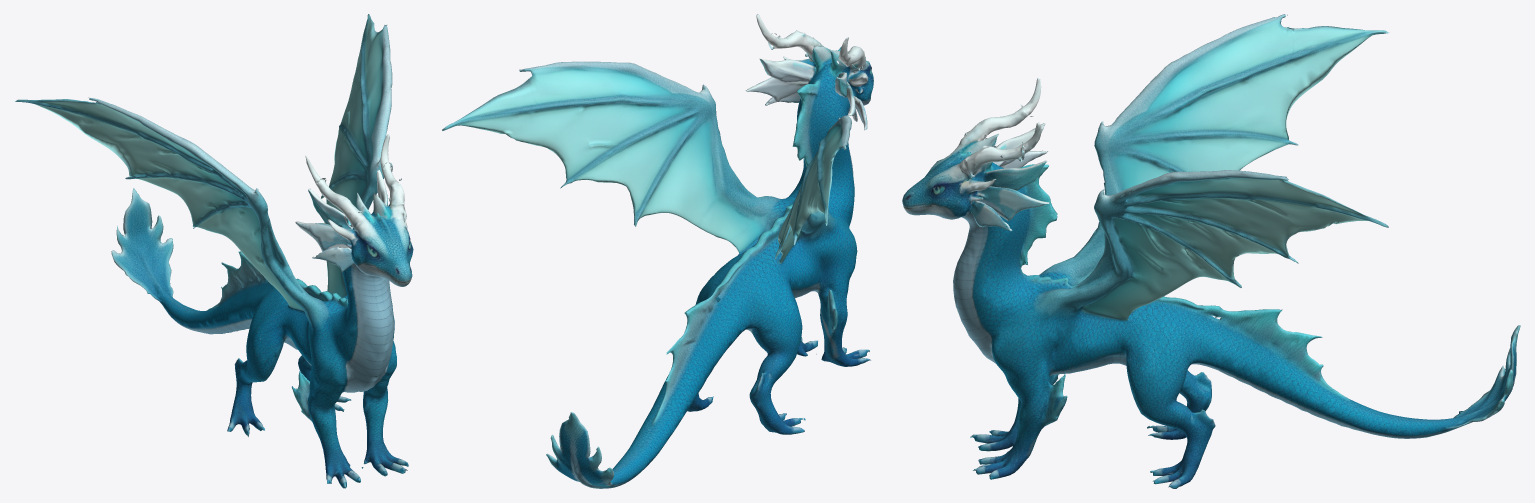
File: water_dragon.glb
3 views of the same model, side by side, from view 1: azimuth 30°, elevation 25°; view 2: azimuth 150°, elevation 25°; view 3: azimuth 270°, elevation 25° (orthographic). The views are drawn at different scales.
Size of the model in its own units: 1.49 by 1.29 by 2.
1 material, 1 textured.
